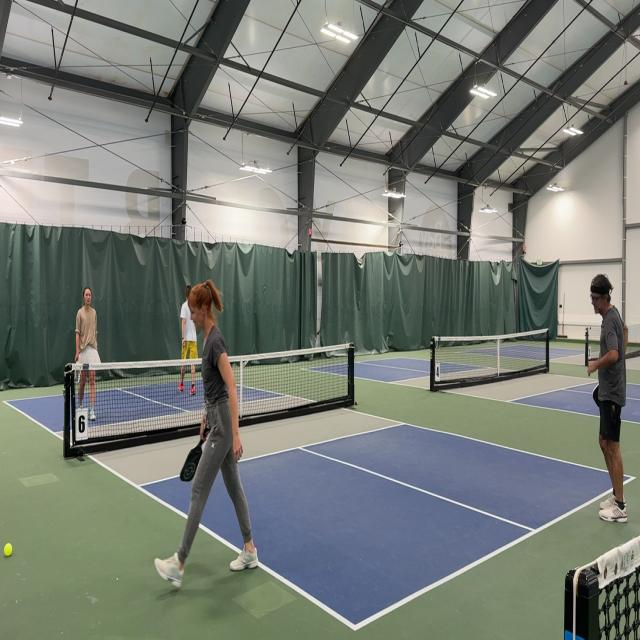ball: (4, 542, 13, 558)
